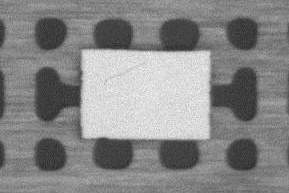DIE_CRACK: (104, 62, 146, 83)
